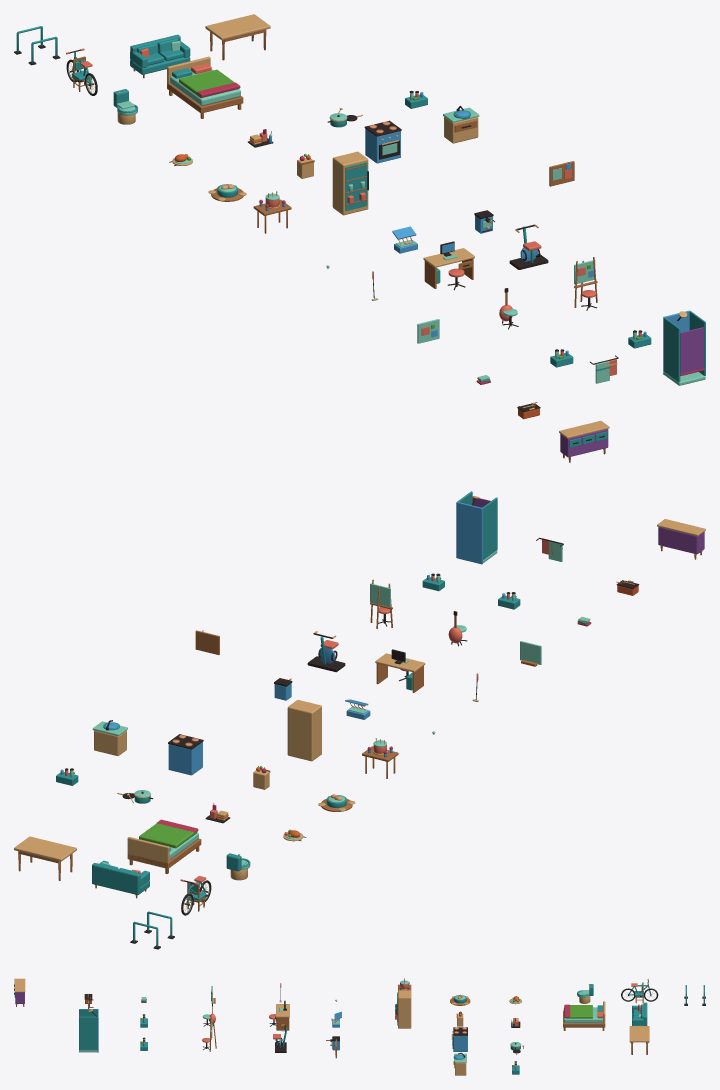
Rendered from furnishings.gltf.
3 views of the same model, one above another, from view 1: azimuth 30°, elevation 25°; view 2: azimuth 150°, elevation 25°; view 3: azimuth 270°, elevation 25° (orthographic). The views are drawn at different scales.
Parts seen in each view (by area): view 1: stock-body, shower-curtain, shower-side--1, table-top, stock-inset, bed-duvet, furniture-body; view 2: stock-body, shower-back, stove-body, table-top, furniture-body, bed-headboard, bed-duvet, shower-side--1, sofa-back; view 3: shower-side-1, stock-body, table-top, bed-duvet, bed-mattress, stove-body, bed-frame, desk-side-1.
Boxes of the visible parts, x1,y1,x2,y2 form: stock-body: (332, 151, 368, 215); shower-curtain: (680, 327, 703, 373); shower-side--1: (663, 317, 680, 382); table-top: (205, 14, 270, 40); stock-inset: (345, 162, 367, 210); bed-duvet: (179, 69, 237, 97); furniture-body: (560, 429, 608, 457); stock-body: (287, 700, 321, 761); shower-back: (456, 502, 482, 564); stove-body: (168, 742, 202, 775); table-top: (14, 836, 76, 861); furniture-body: (658, 527, 704, 554); bed-headboard: (127, 837, 169, 868); bed-duvet: (139, 823, 197, 848); shower-side--1: (482, 497, 497, 559); sofa-back: (92, 863, 140, 889); shower-side-1: (79, 1016, 97, 1050); stock-body: (398, 990, 411, 1028); table-top: (629, 1026, 649, 1042); bed-duvet: (566, 1005, 592, 1018); bed-mattress: (563, 1007, 602, 1023); stove-body: (453, 1035, 467, 1051); bed-frame: (563, 1011, 605, 1027); desk-side-1: (276, 1017, 289, 1030).
Size of the model in its own units: 8.96 by 2.04 by 32.39.
Materials: 16 (5 with a texture image).
